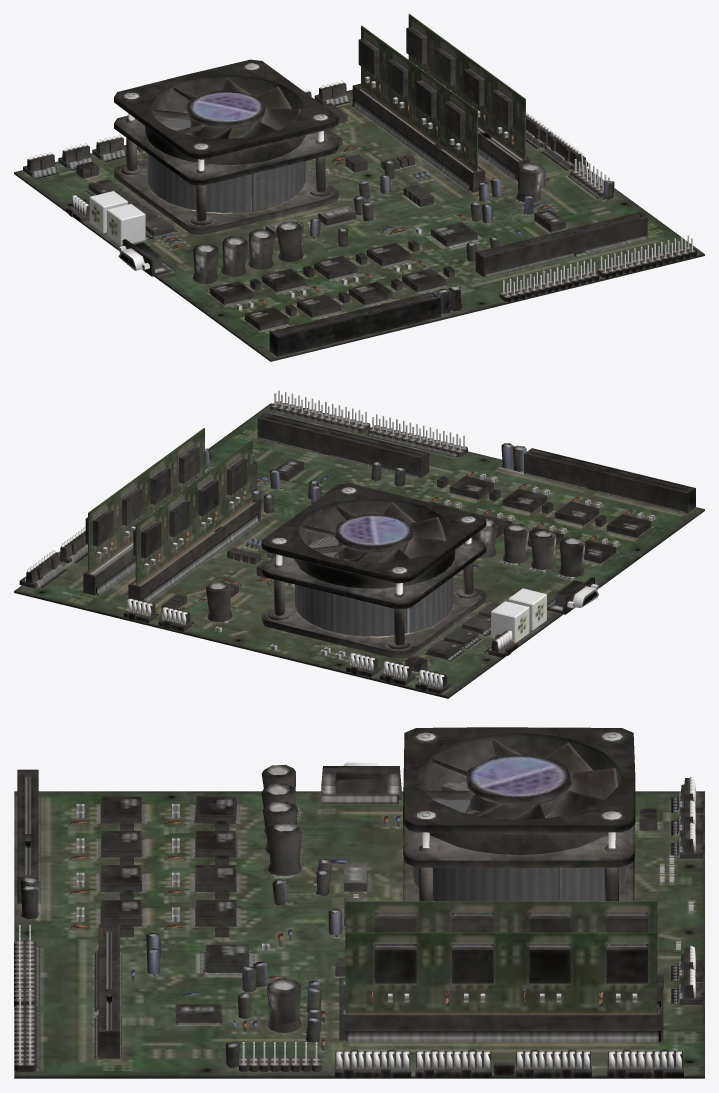
Rendered from circuit_board.glb.
The picture shows the model from 3 angles, top to bottom: view 1: azimuth 30°, elevation 25°; view 2: azimuth 150°, elevation 25°; view 3: azimuth 270°, elevation 25°; orthographic projection. The views are drawn at different scales.
Parts seen in each view (by area): view 1: circuit_board; view 2: circuit_board; view 3: circuit_board.
Boxes of the visible parts, bbox=[...] form: circuit_board: bbox=[14, 14, 704, 361]; circuit_board: bbox=[14, 390, 704, 698]; circuit_board: bbox=[14, 727, 704, 1078].
Size of the model in its own units: 0.4035 by 0.0783 by 0.3974.
2 materials, 2 textured.
